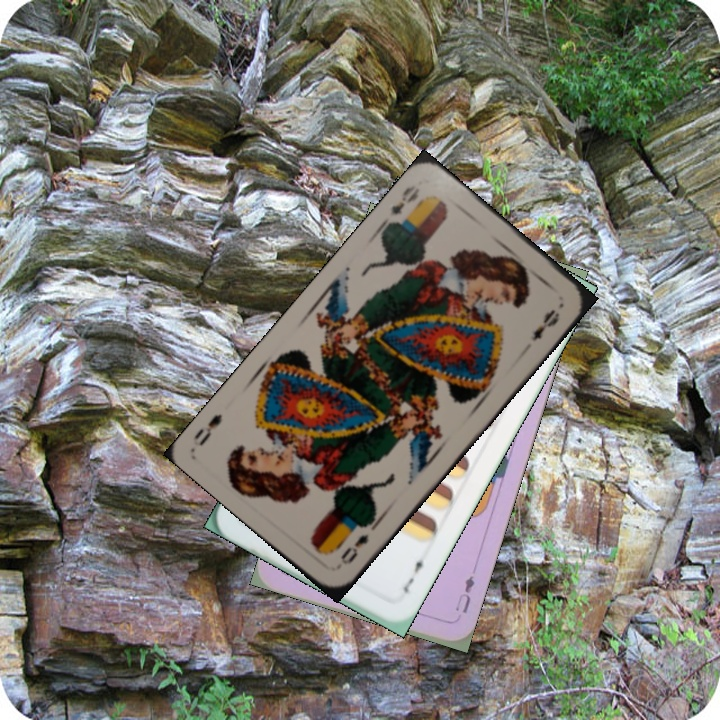E7: (398, 550, 429, 596)
EO: (379, 181, 426, 229), (336, 530, 372, 568)
EU: (451, 571, 478, 617)
